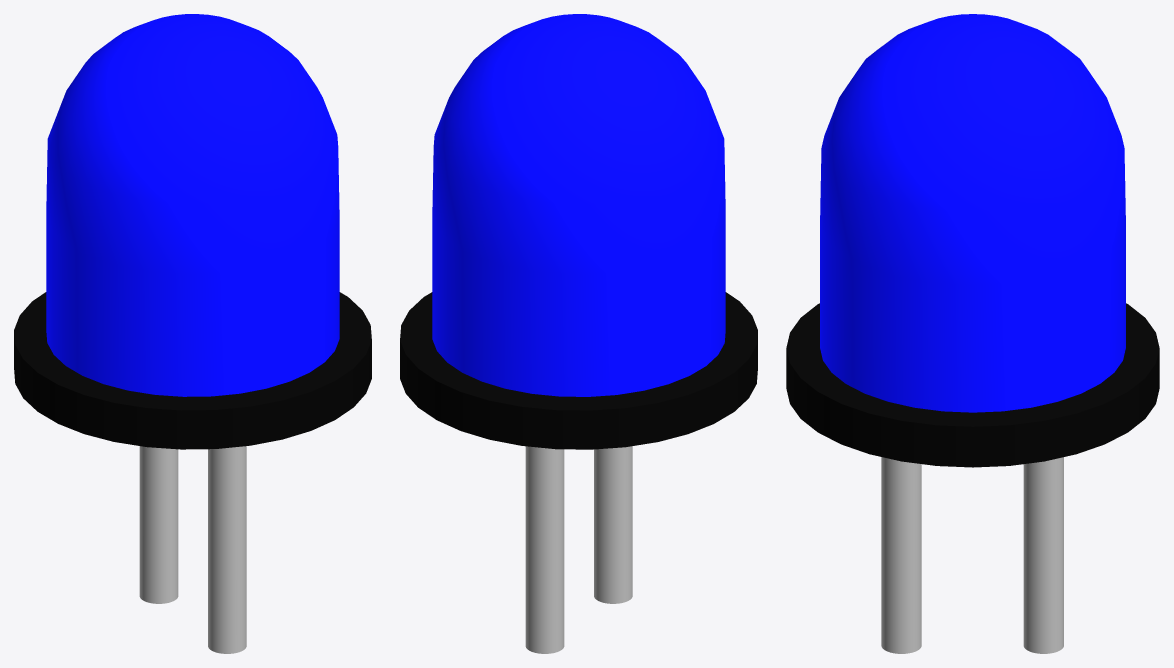
File: BlueLED.fbx
3 views of the same model, side by side, from view 1: azimuth 30°, elevation 25°; view 2: azimuth 150°, elevation 25°; view 3: azimuth 270°, elevation 25° (orthographic). The views are drawn at different scales.
Parts seen in each view (by area): view 1: BlueLED; view 2: BlueLED; view 3: BlueLED.
Boxes of the visible parts, bbox=[...] form: BlueLED: bbox=[14, 14, 371, 653]; BlueLED: bbox=[400, 14, 757, 653]; BlueLED: bbox=[786, 14, 1159, 653].
Size of the model in its own units: 228 by 416 by 228.
